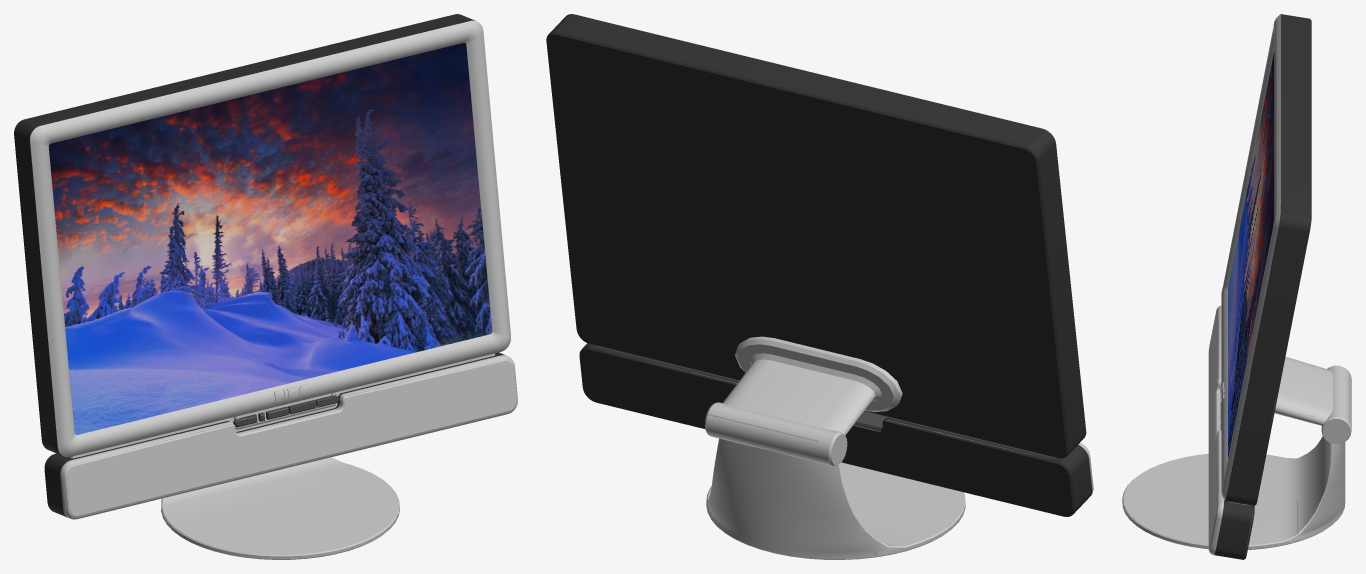
The model's file is device.fbx.
3 views of the same model, side by side, from view 1: azimuth 30°, elevation 25°; view 2: azimuth 150°, elevation 25°; view 3: azimuth 270°, elevation 25° (orthographic). The views are drawn at different scales.
Visible parts, largest first — view 1: 1, 2; view 2: 2; view 3: 2, 1.
Boxes of the visible parts, <box> form: 1: <box>48,43,492,434</box>; 2: <box>14,14,517,559</box>; 2: <box>546,14,1093,559</box>; 2: <box>1122,14,1351,559</box>; 1: <box>1228,52,1274,457</box>.
Bounding box in the file's own units: 47.23 × 41.62 × 22.16.
2 materials, 2 textured.
